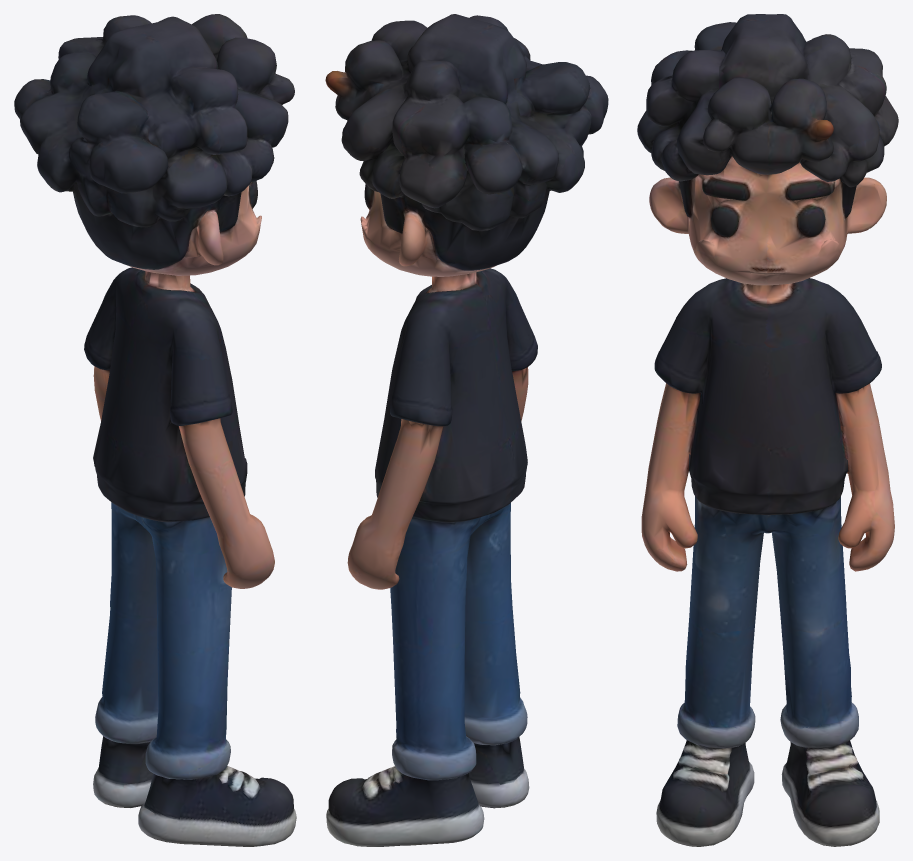
File: hair_m4-web.glb
3 renders of one model, left to right at view 1: azimuth 30°, elevation 25°; view 2: azimuth 150°, elevation 25°; view 3: azimuth 270°, elevation 25°, orthographic. The views are drawn at different scales.
Parts seen in each view (by area): view 1: tripo_node_c426f4a1-af25-4502-be48-18fb1154f860; view 2: tripo_node_c426f4a1-af25-4502-be48-18fb1154f860; view 3: tripo_node_c426f4a1-af25-4502-be48-18fb1154f860.
Boxes of the visible parts, x1,y1,x2,y2 form: tripo_node_c426f4a1-af25-4502-be48-18fb1154f860: [14, 14, 296, 846]; tripo_node_c426f4a1-af25-4502-be48-18fb1154f860: [325, 14, 608, 846]; tripo_node_c426f4a1-af25-4502-be48-18fb1154f860: [637, 14, 898, 846].
Bounding box in the file's own units: 0.293 × 0.9998 × 0.305.
Materials: 1 (1 with a texture image).
